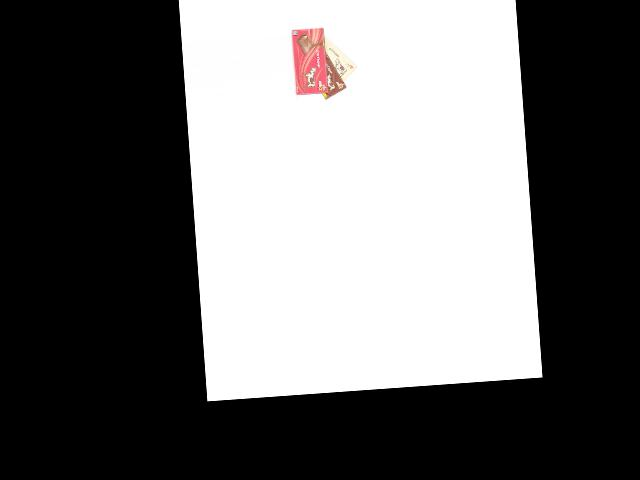chocolate: (317, 27, 359, 90)
